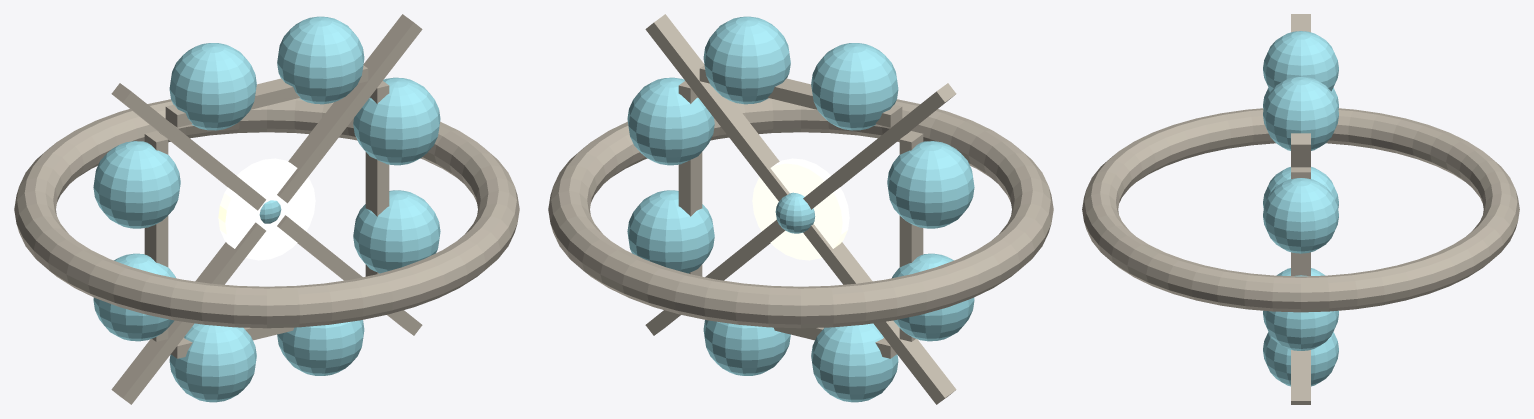
File: RoseWindowCymatic.fbx
3 renders of one model, left to right at view 1: azimuth 30°, elevation 25°; view 2: azimuth 150°, elevation 25°; view 3: azimuth 270°, elevation 25°, orthographic. The views are drawn at different scales.
Parts seen in each view (by area): view 1: RoseWindowCymatic; view 2: RoseWindowCymatic; view 3: RoseWindowCymatic.
Boxes of the visible parts, left/top/right/bottom form: RoseWindowCymatic: left=14, top=14, right=519, bottom=404; RoseWindowCymatic: left=548, top=14, right=1053, bottom=404; RoseWindowCymatic: left=1082, top=14, right=1519, bottom=404.
Size of the model in its own units: 4.36 by 3.35 by 4.36.
